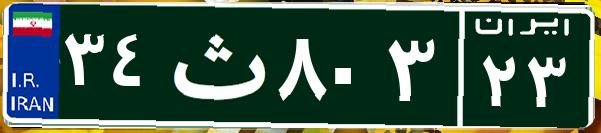0: (330, 28, 385, 110)
2: (475, 38, 525, 113)
3: (385, 28, 445, 110), (57, 26, 110, 107), (525, 38, 570, 115)
4: (110, 28, 158, 105)
8: (273, 28, 330, 110)
ث: (158, 15, 273, 115)
